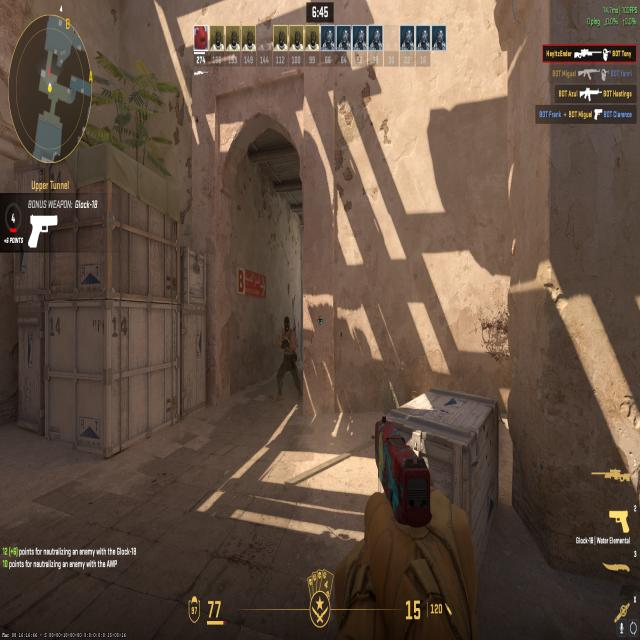t: (275, 314, 304, 406)
